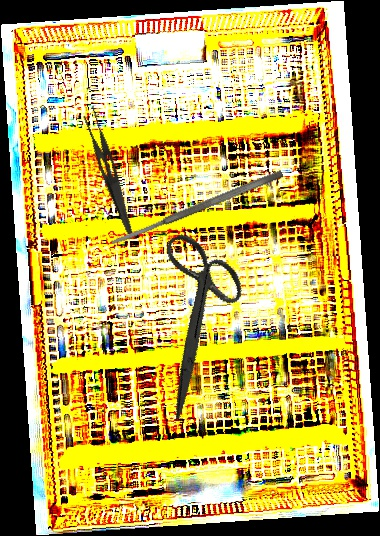Dressing Forceps: (75, 104, 147, 236)
Iris Scissors: (106, 219, 283, 421)
Spatula Surgical: (109, 168, 285, 248)
